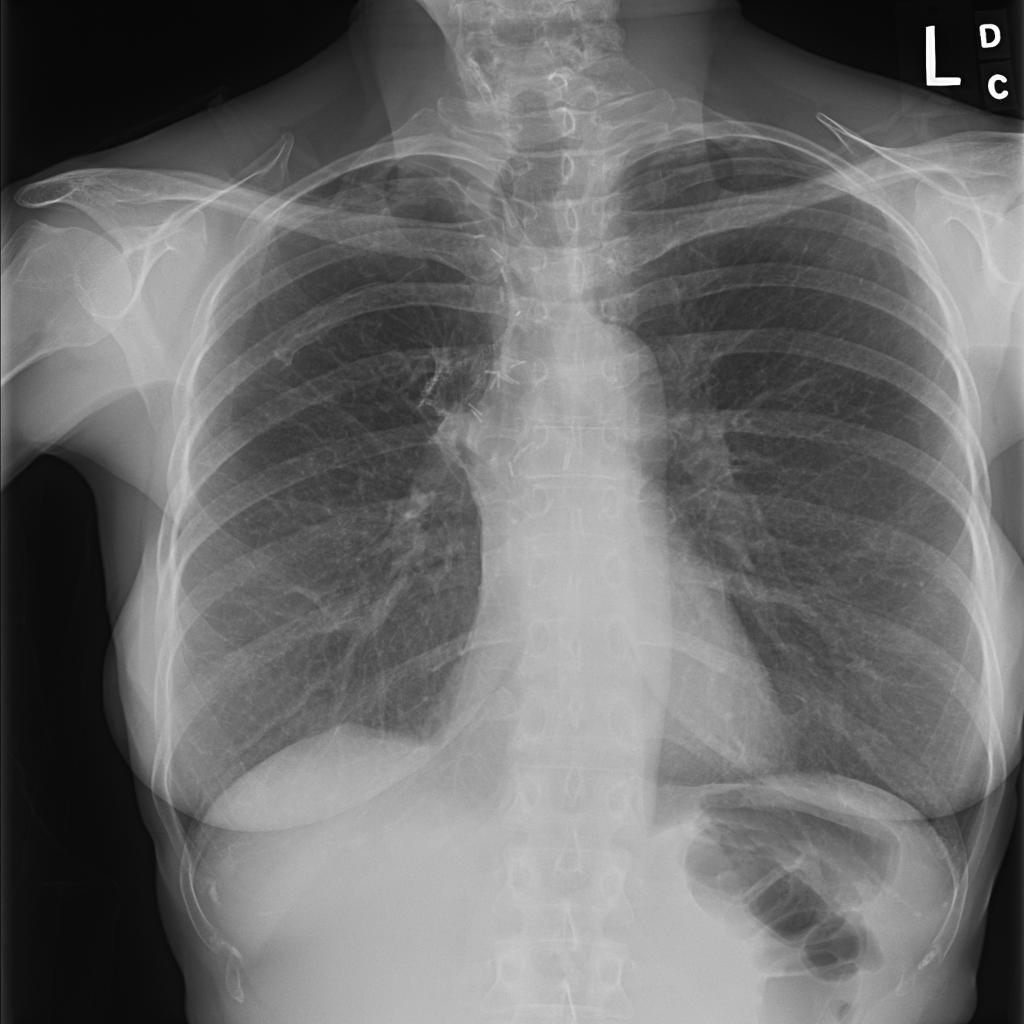Nodule: (103, 416, 147, 449)
